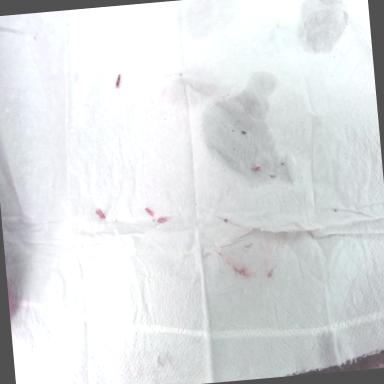pbw: (95, 208, 106, 222), (154, 216, 169, 226), (142, 206, 154, 218), (252, 166, 260, 172)
